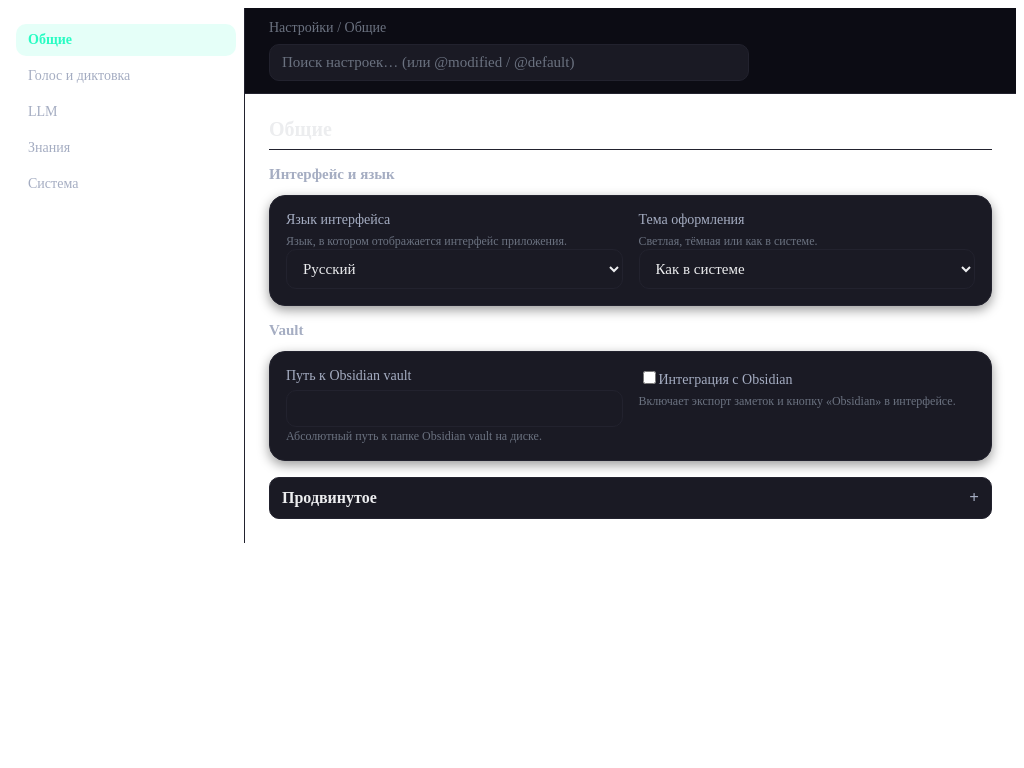
Scenario: Settings IA — all 5 categories render at least one field › voice category renders at least one field
Click the button with test id "settings-sidebar-voice".
click(126, 76)  # box x1=16 y1=60 x2=236 y2=92
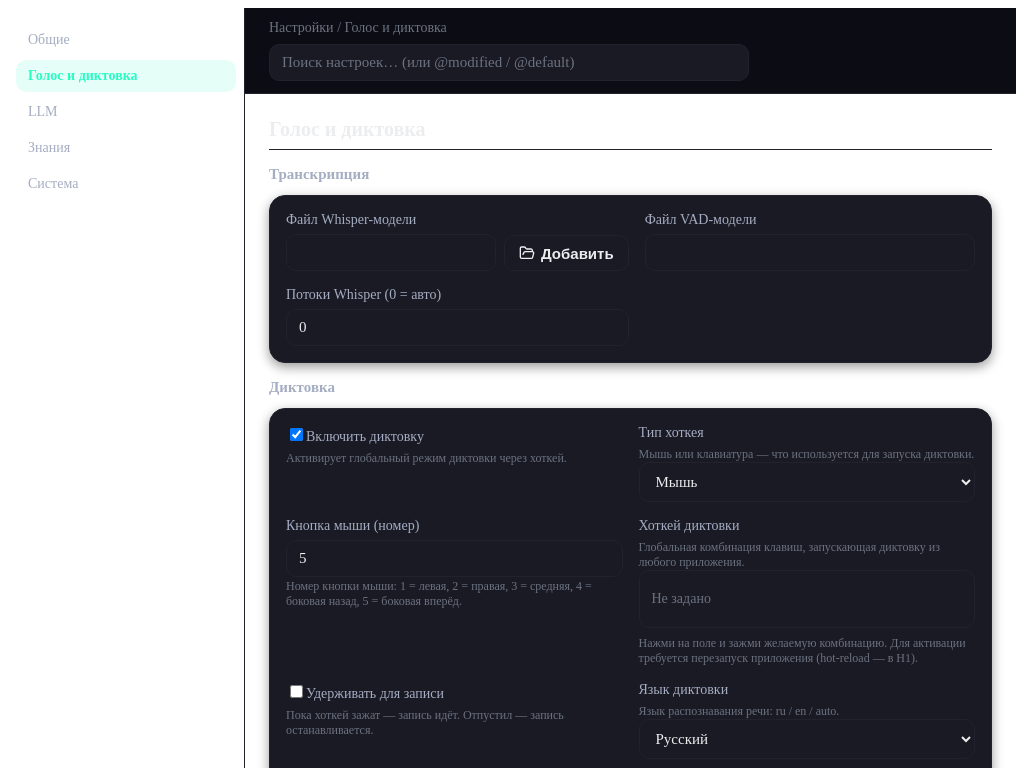
Now the element with test id "field-dictationEnabled" is shown, box x1=286 y1=428 x2=567 y2=465
